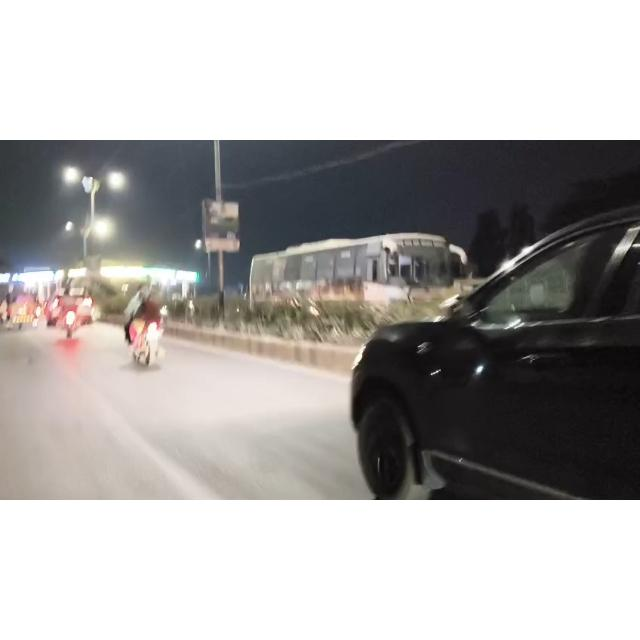auto: (4, 281, 44, 328)
car: (343, 169, 640, 501), (45, 286, 97, 331)
